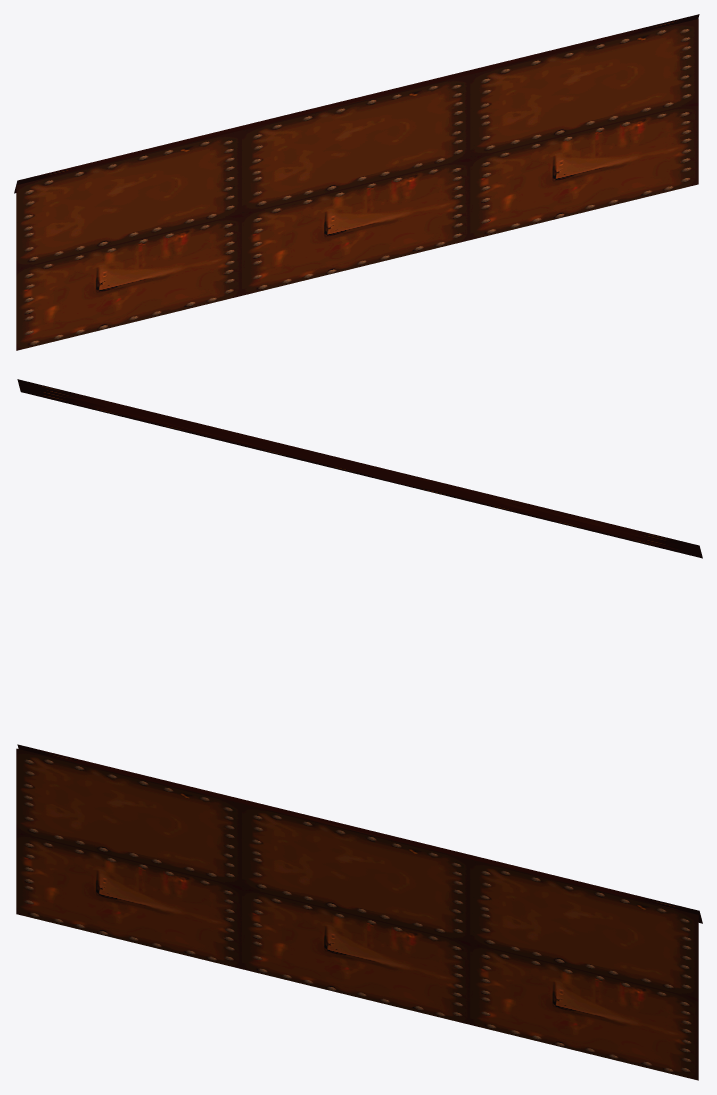
File: Zaun_Rostig_913.glb
The picture shows the model from 3 angles, top to bottom: view 1: azimuth 30°, elevation 25°; view 2: azimuth 150°, elevation 25°; view 3: azimuth 330°, elevation 25°; orthographic projection.
Parts seen in each view (by area): view 1: pPlaneShape183, pPlaneShape184; view 2: pPlaneShape184; view 3: pPlaneShape183, pPlaneShape184.
Part boxes in pixels (left/top/right/bottom): pPlaneShape183: left=16, top=19, right=698, bottom=350; pPlaneShape184: left=14, top=14, right=699, bottom=193; pPlaneShape184: left=17, top=379, right=702, bottom=558; pPlaneShape183: left=16, top=748, right=698, bottom=1080; pPlaneShape184: left=17, top=744, right=702, bottom=923.
Bounding box in the file's own units: 1 × 0.2382 × 0.0172.
2 materials, 2 textured.
